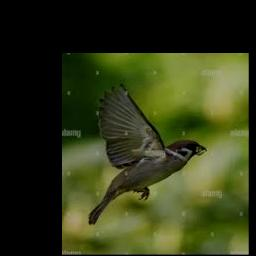Sparrow: (88, 84, 206, 224)
